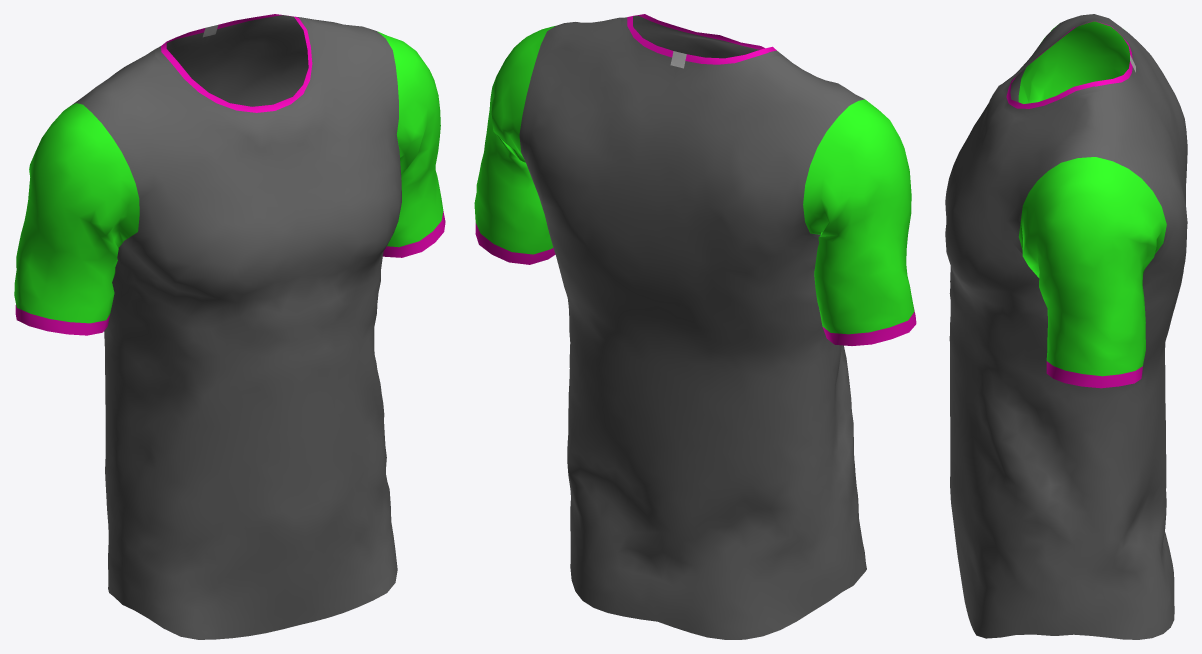
File: Jersey.glb
3 renders of one model, left to right at view 1: azimuth 30°, elevation 25°; view 2: azimuth 150°, elevation 25°; view 3: azimuth 270°, elevation 25°, orthographic. The views are drawn at different scales.
Visible parts, largest first — view 1: Jersey; view 2: Jersey; view 3: Jersey.
Part boxes in pixels (x1,y1,x2,y2): Jersey: (14, 14, 445, 639); Jersey: (474, 14, 916, 639); Jersey: (945, 14, 1187, 639).
Bounding box in the file's own units: 0.5125 × 0.6386 × 0.2568.
